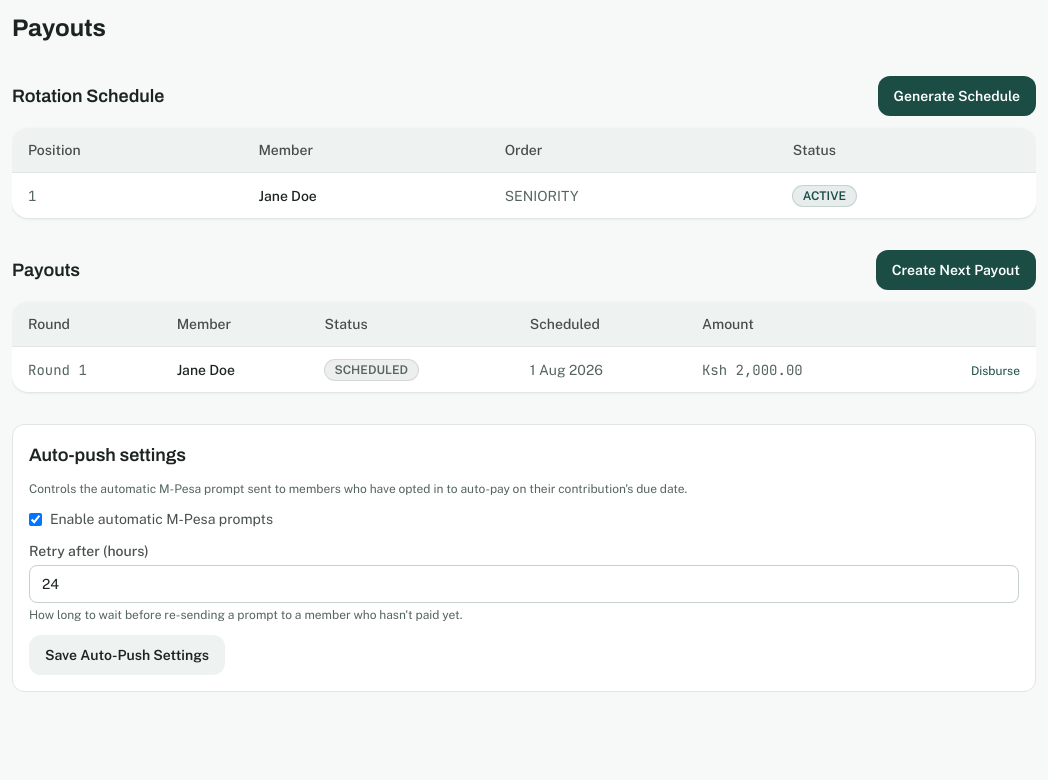
it: PayoutsPage › shows an error when saving auto-push settings fails
The image size is (1048, 780).
Check: the heading "Auto-push settings" is shown, box [29, 445, 186, 465]
Click the button "Save Auto-Push Settings" at {"x": 127, "y": 655}, box [29, 635, 225, 675]
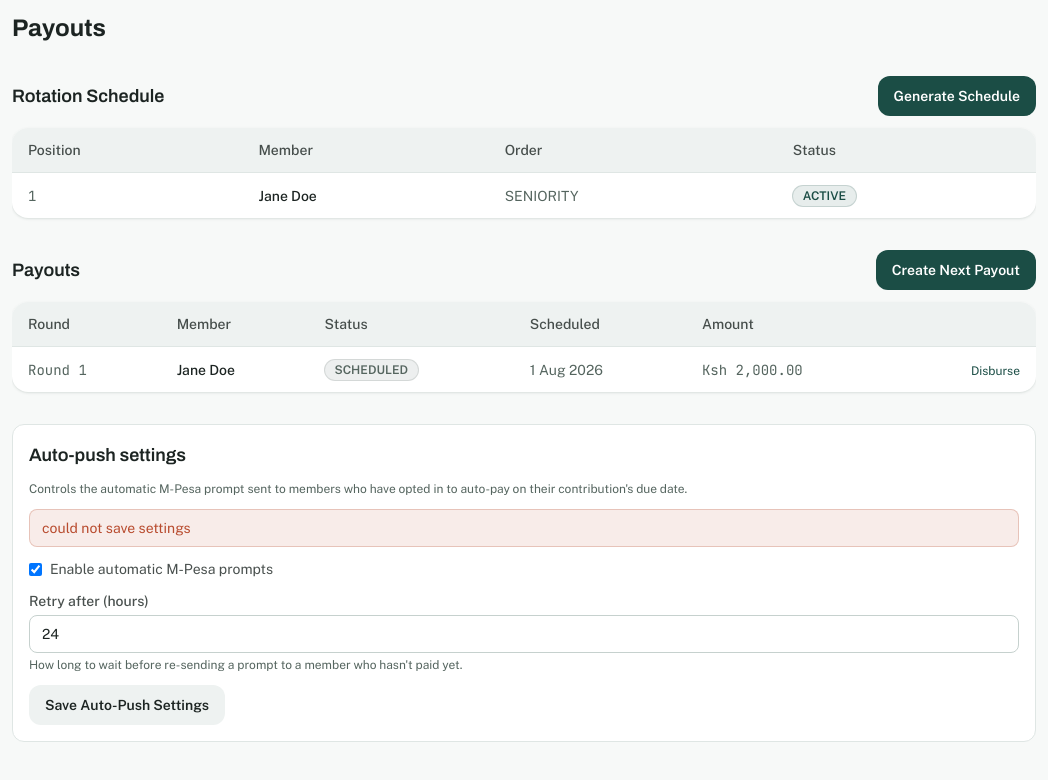
Check: the text "could not save settings" is shown, box [29, 509, 1019, 547]
